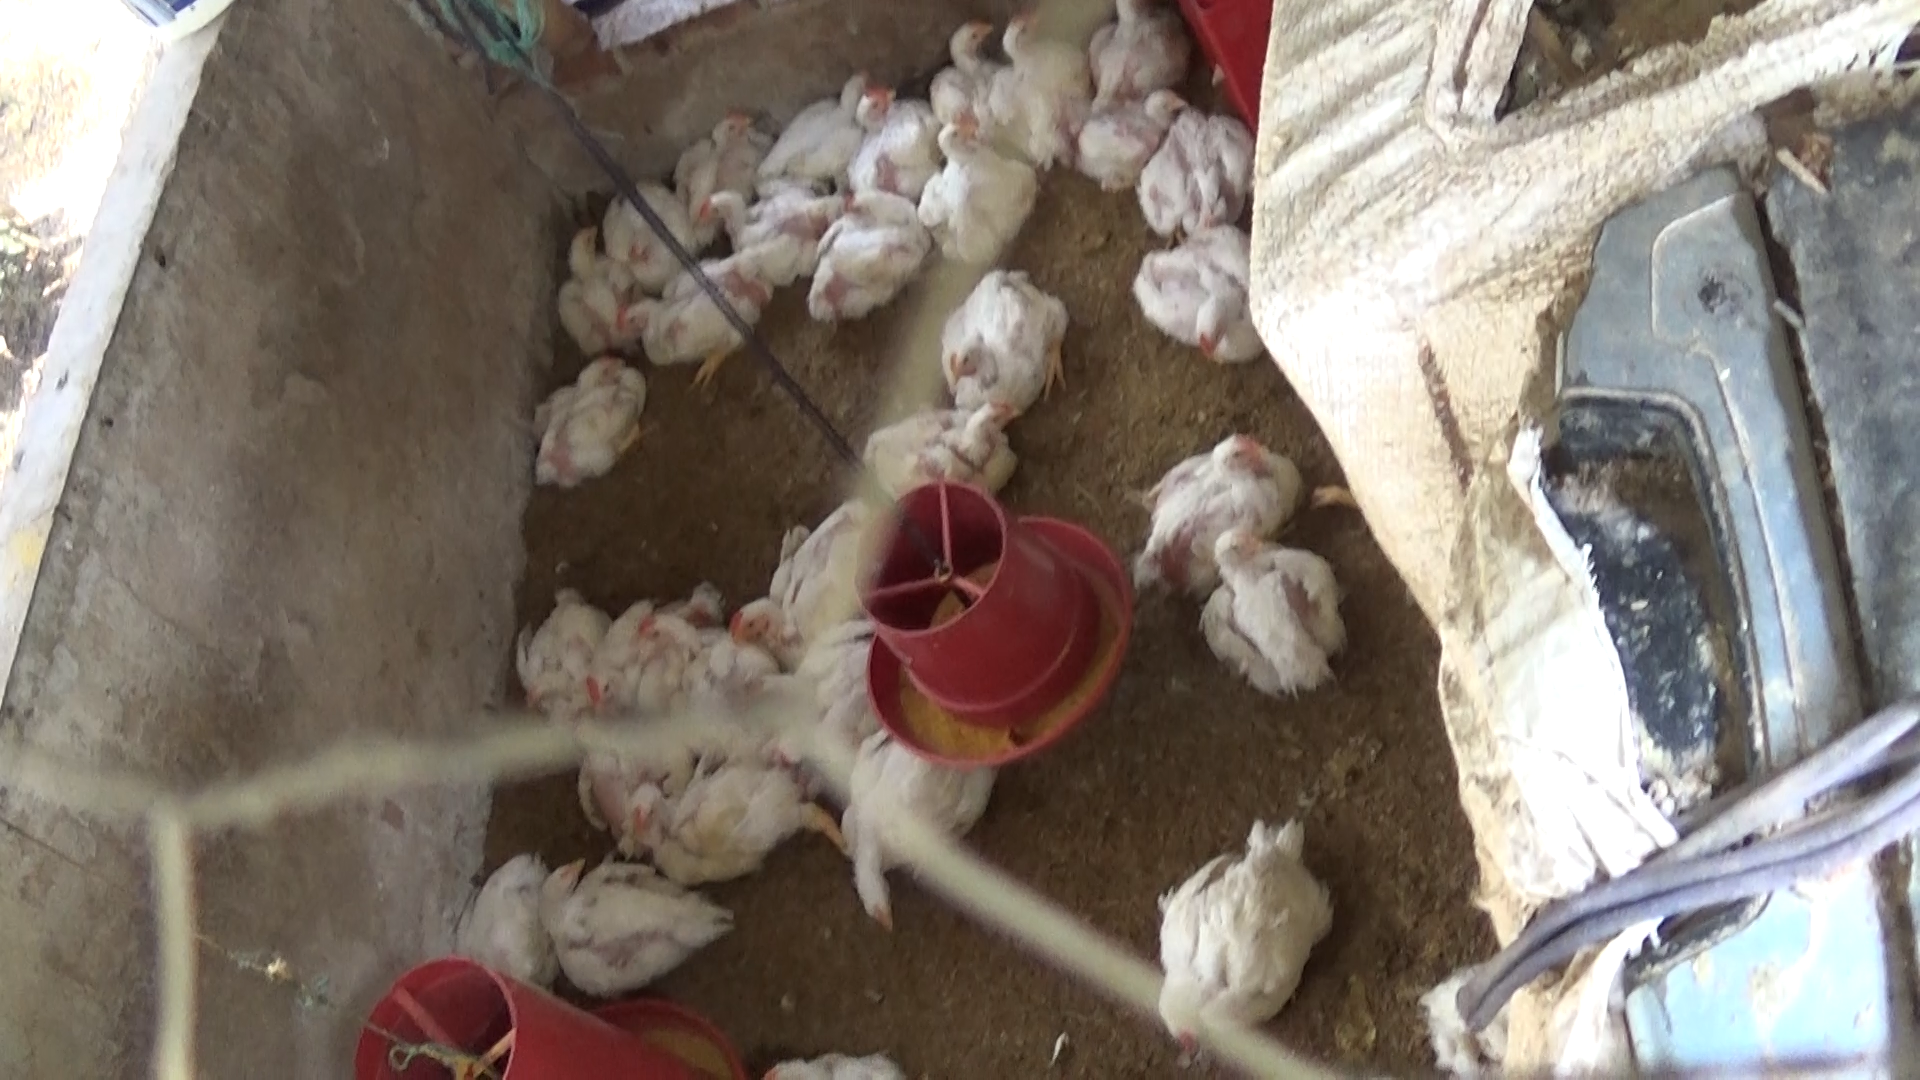Pollos: (1124, 807, 1335, 1065), (841, 731, 1000, 947), (510, 856, 744, 1001), (1126, 422, 1296, 603), (727, 498, 895, 676), (1185, 516, 1350, 696), (615, 767, 841, 885), (615, 258, 783, 394), (1126, 218, 1259, 371), (934, 247, 1069, 396), (862, 368, 1019, 492), (520, 351, 649, 498), (913, 102, 1035, 255), (584, 574, 704, 728), (1130, 105, 1255, 251), (804, 178, 924, 328), (448, 836, 563, 992), (757, 69, 881, 210), (994, 3, 1096, 171), (1068, 88, 1193, 207), (674, 100, 779, 233), (524, 585, 628, 720), (636, 613, 767, 708), (696, 187, 833, 276), (1091, 0, 1189, 121), (558, 219, 632, 375), (592, 193, 711, 287), (932, 18, 1011, 152), (853, 80, 935, 207)
